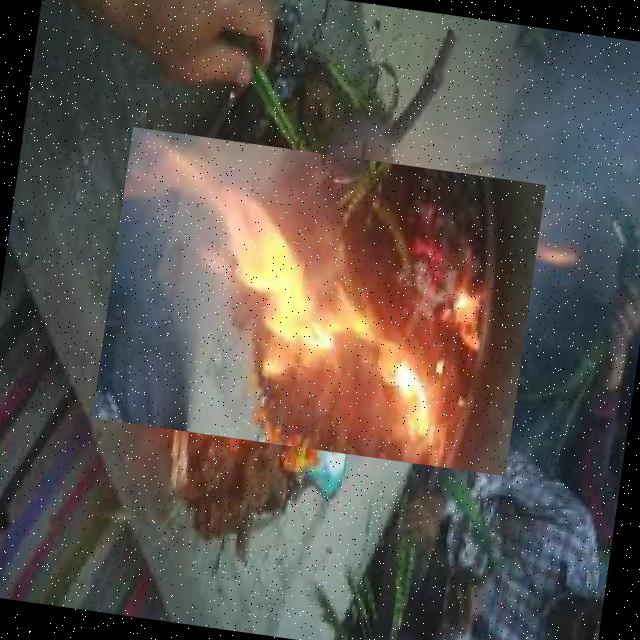fire: (92, 127, 546, 476)
